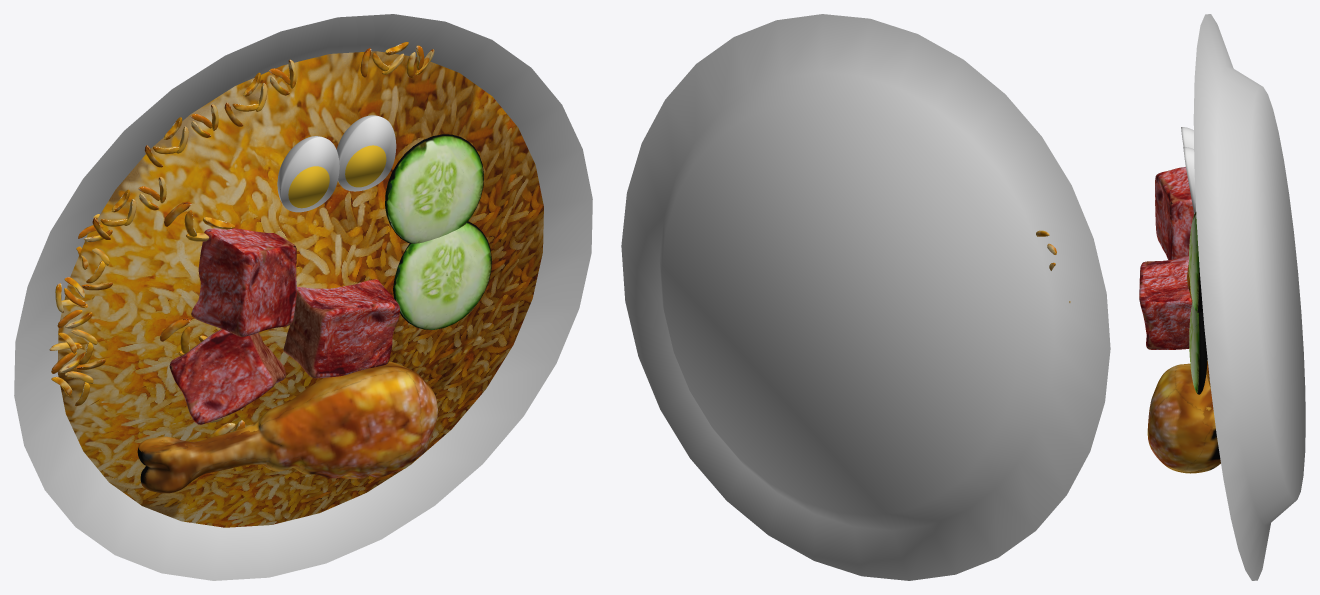
The model's file is mixedmandi-v3.glb.
3 renders of one model, left to right at view 1: azimuth 30°, elevation 25°; view 2: azimuth 150°, elevation 25°; view 3: azimuth 270°, elevation 25°, orthographic. The views are drawn at different scales.
Parts seen in each view (by area): view 1: Cone, Circle.001, 15513_Fried_Chicken_Drumstick_v1.001, Cube.001, Cube.002, Sphere.001, Sphere.002, Cube.003, Sphere, Sphere.003, Plane.011, Plane.012 (+6 smaller); view 2: Circle.001; view 3: Circle.001, 15513_Fried_Chicken_Drumstick_v1.001, Cube.002, Cube.001, Sphere.002, Sphere.001, Sphere.003, Sphere.
Part boxes in pixels (<box>): Cone: <box>57,51,543,527</box>; Circle.001: <box>14,14,592,580</box>; 15513_Fried_Chicken_Drumstick_v1.001: <box>137,361,437,493</box>; Cube.001: <box>191,228,296,336</box>; Cube.002: <box>283,279,399,378</box>; Sphere.001: <box>385,134,483,243</box>; Sphere.002: <box>393,221,491,329</box>; Cube.003: <box>169,329,285,424</box>; Sphere: <box>277,136,339,212</box>; Sphere.003: <box>336,115,396,191</box>; Plane.011: <box>224,59,296,126</box>; Plane.012: <box>360,42,434,78</box>; Circle.001: <box>621,14,1110,580</box>; Circle.001: <box>1193,14,1305,580</box>; 15513_Fried_Chicken_Drumstick_v1.001: <box>1147,363,1220,473</box>; Cube.002: <box>1139,255,1191,349</box>; Cube.001: <box>1155,167,1194,260</box>; Sphere.002: <box>1189,302,1207,394</box>; Sphere.001: <box>1189,212,1202,312</box>; Sphere.003: <box>1183,147,1195,213</box>; Sphere: <box>1181,127,1193,148</box>.
Bounding box in the file's own units: 8.73 × 8.68 × 2.55.
Materials: 25 (20 with a texture image).
